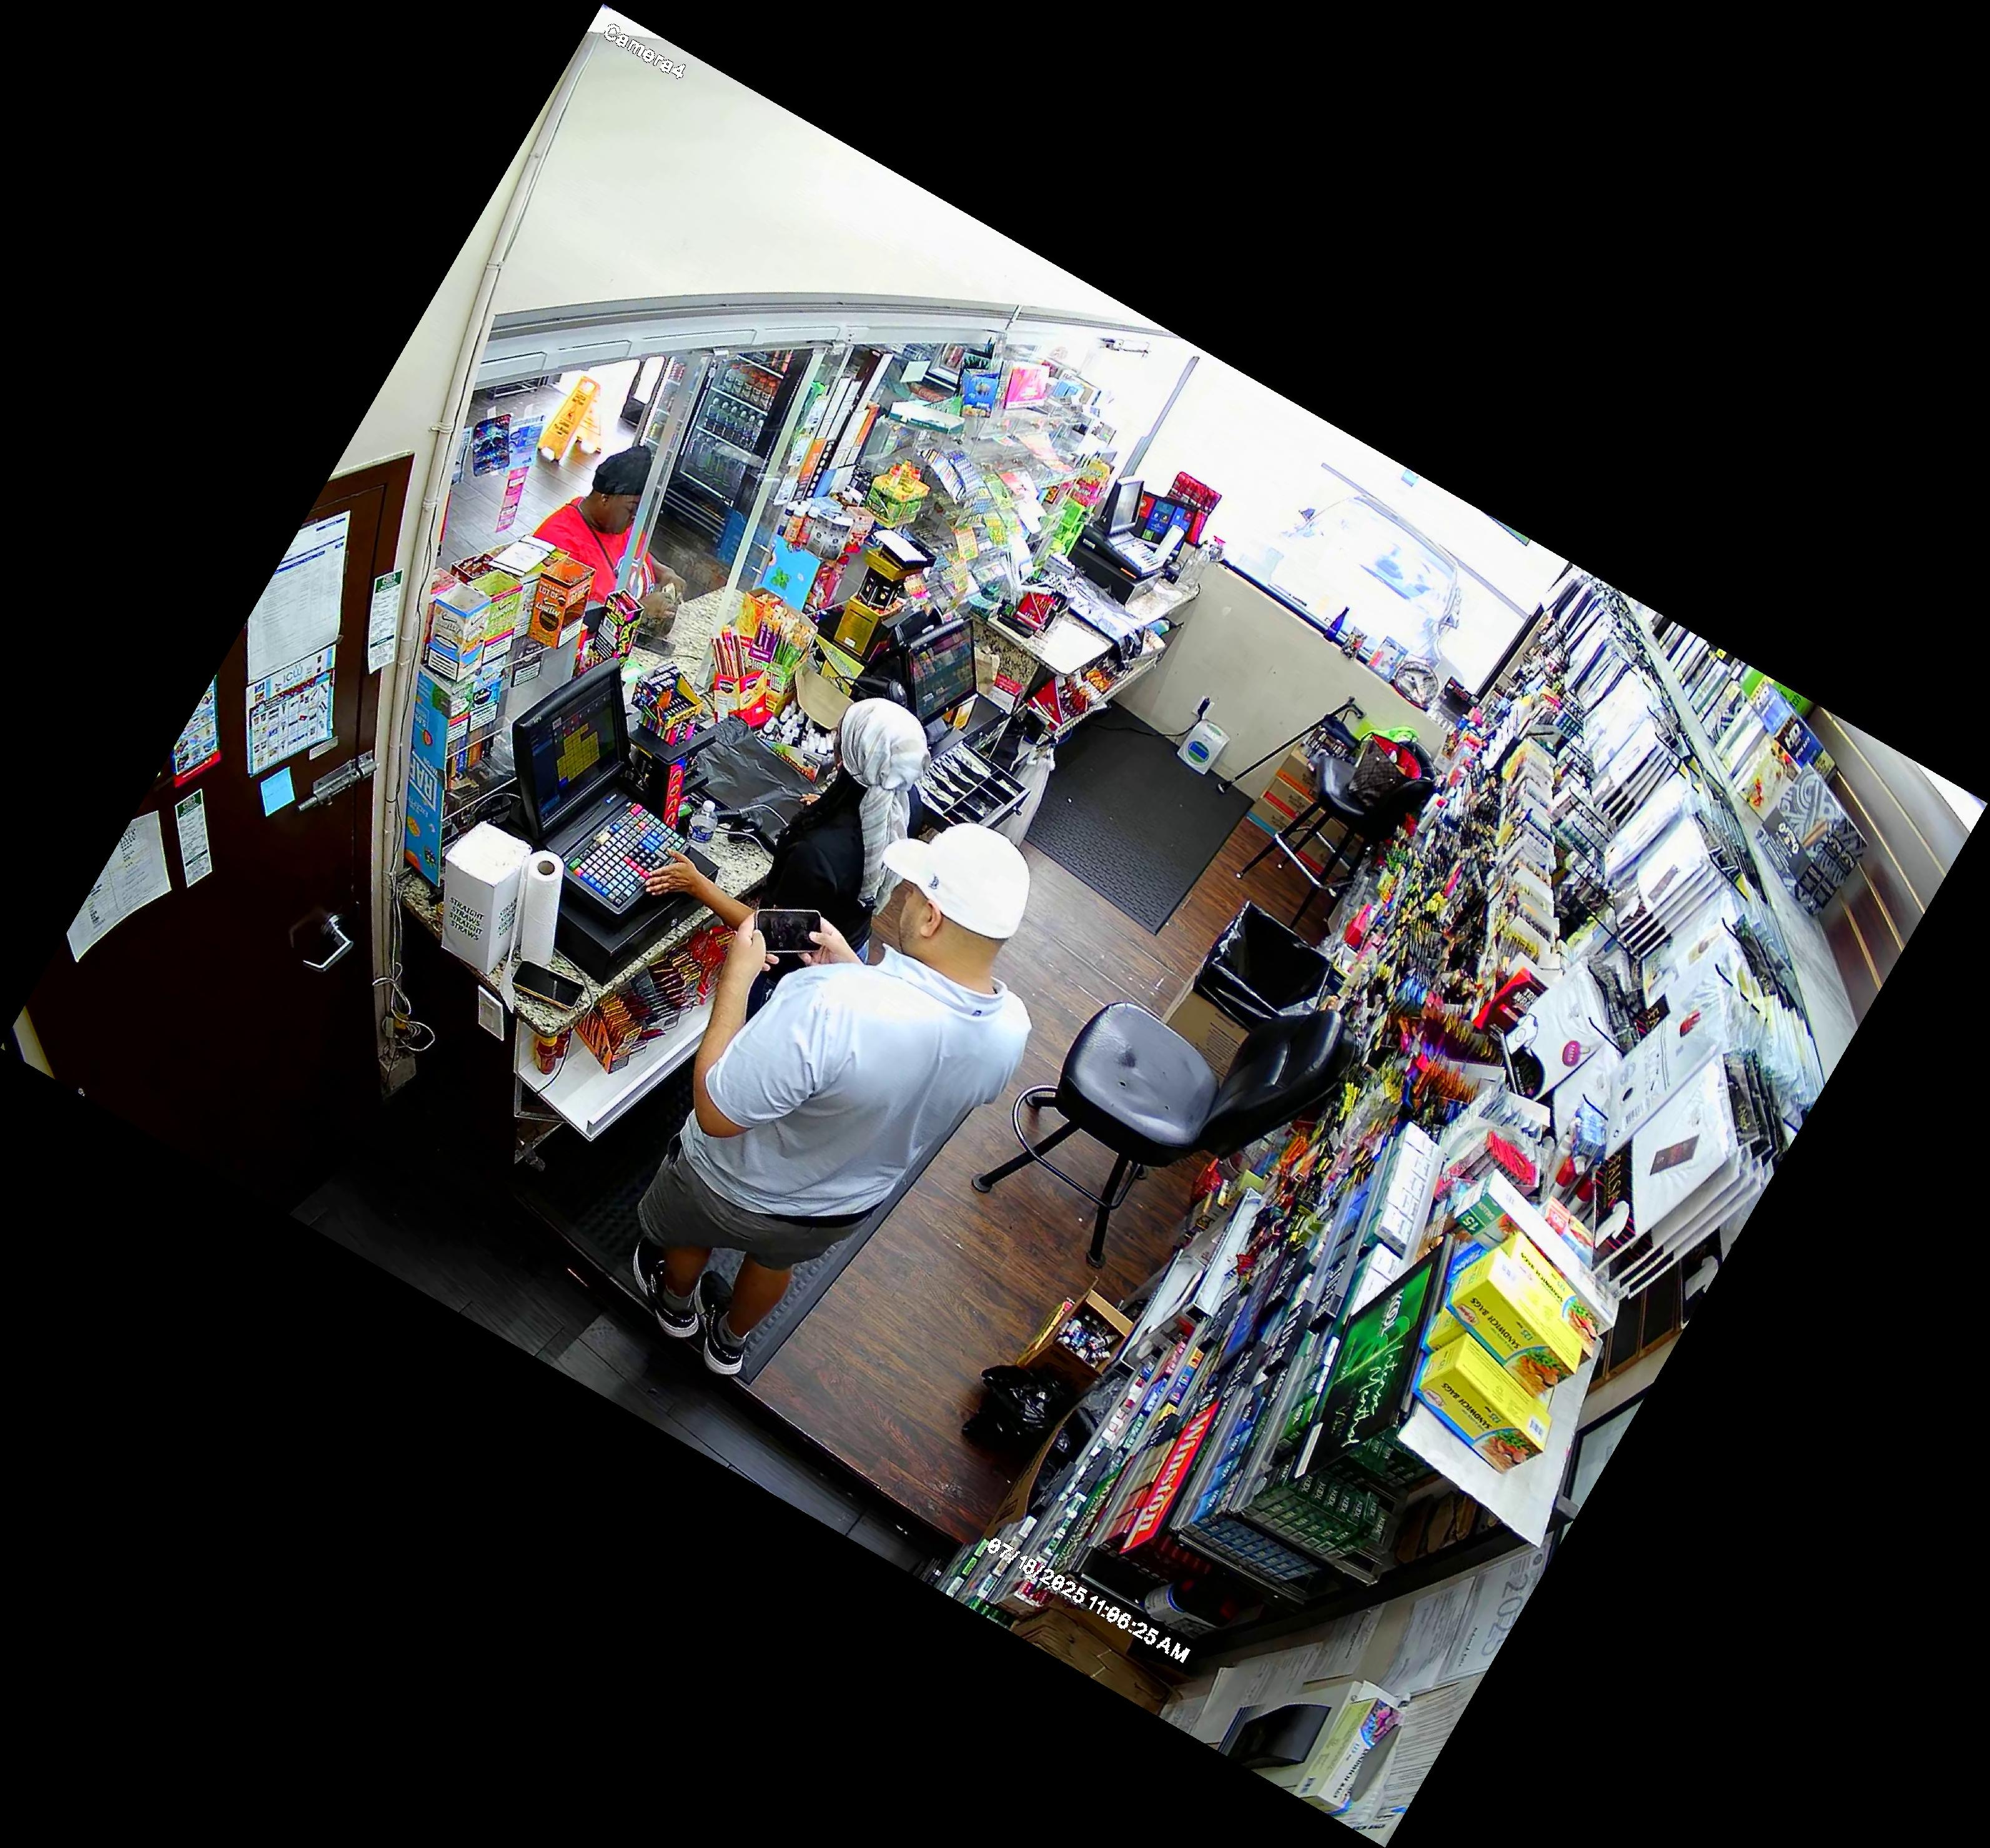phone: (738, 898, 834, 969)
